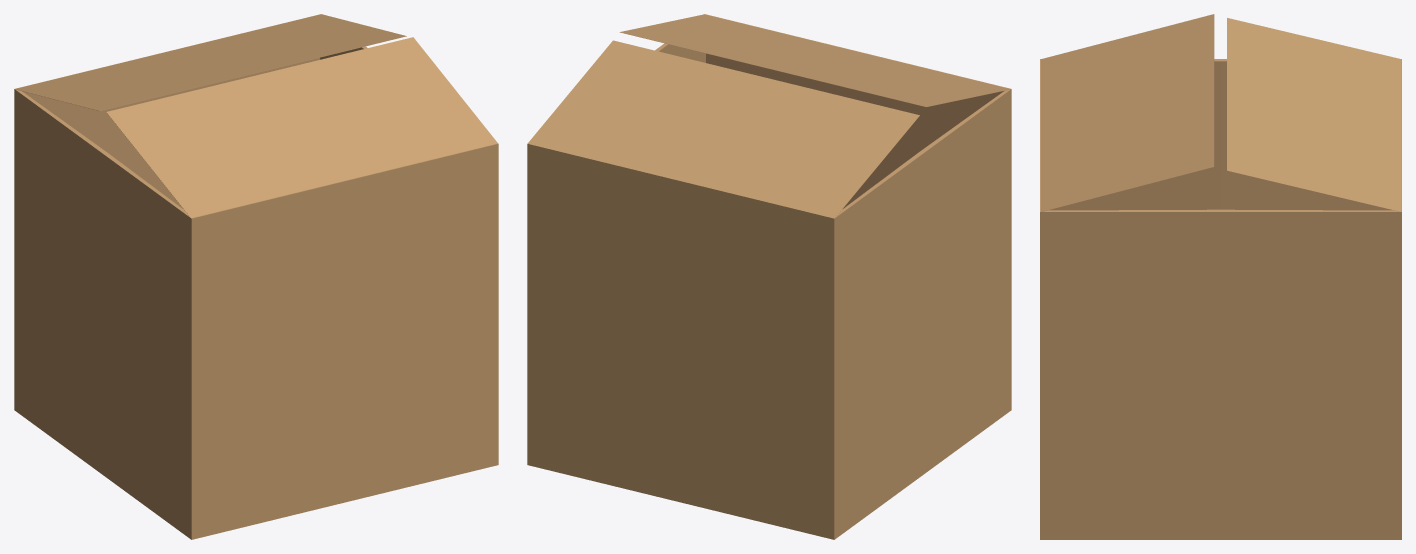
3 views of the same model, side by side, from view 1: azimuth 30°, elevation 25°; view 2: azimuth 150°, elevation 25°; view 3: azimuth 270°, elevation 25° (orthographic). The views are drawn at different scales.
Visible parts, largest first — view 1: box, right, left; view 2: box, left, right; view 3: box, left, right.
Boxes of the visible parts, x1=… form: box: x1=14, y1=14, x2=498, y2=539; right: x1=106, y1=37, x2=497, y2=218; left: x1=15, y1=14, x2=406, y2=111; box: x1=527, y1=14, x2=1011, y2=539; left: x1=528, y1=40, x2=919, y2=218; right: x1=619, y1=14, x2=1010, y2=107; box: x1=1040, y1=59, x2=1401, y2=539; left: x1=1227, y1=18, x2=1401, y2=211; right: x1=1041, y1=14, x2=1214, y2=211.
Size of the model in its own units: 243 by 276 by 243.
